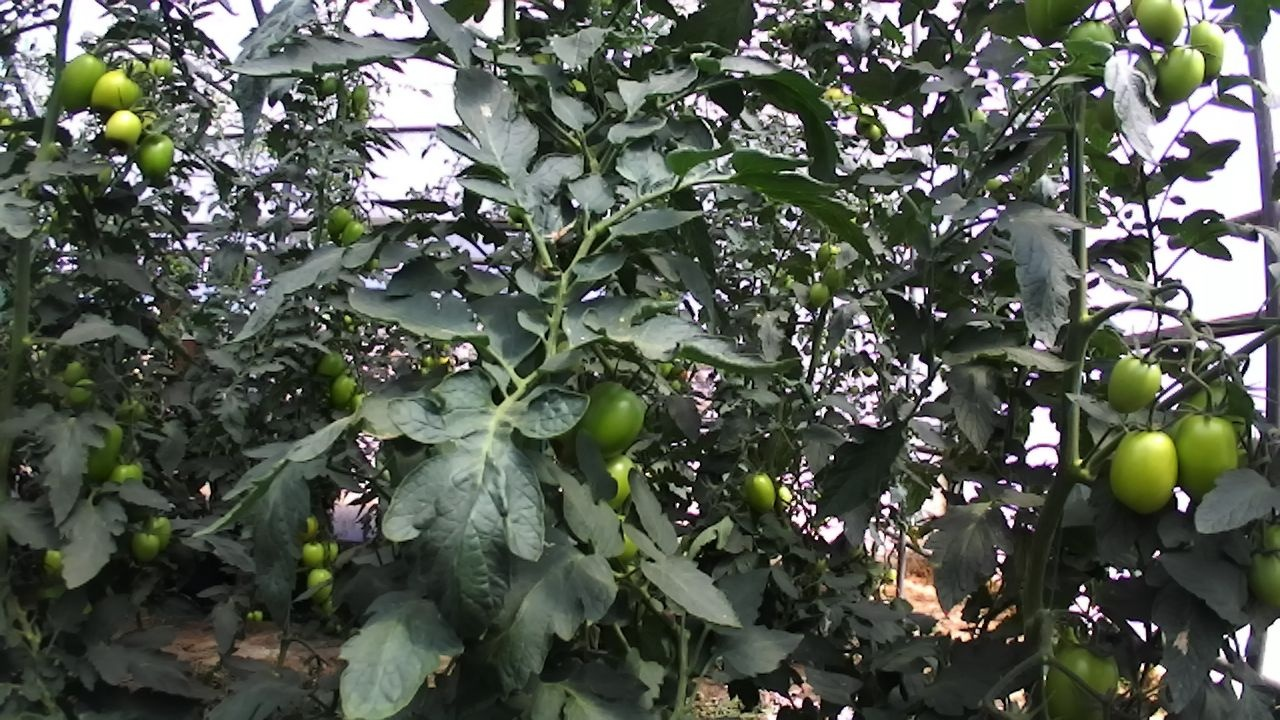tomato: (1164, 396, 1259, 521), (1100, 416, 1199, 525), (1029, 622, 1138, 720), (566, 366, 661, 473), (43, 41, 124, 122), (1098, 342, 1178, 422), (1148, 32, 1222, 115), (1060, 11, 1127, 89), (1179, 8, 1238, 92), (592, 445, 653, 518), (730, 458, 794, 525), (73, 415, 131, 487), (85, 63, 151, 126), (1124, 0, 1196, 56), (1238, 542, 1280, 625), (131, 124, 182, 187), (98, 103, 150, 155), (104, 453, 149, 503), (321, 366, 364, 414), (139, 510, 180, 557), (313, 342, 352, 387), (127, 527, 167, 567), (64, 374, 104, 412), (303, 564, 336, 608), (322, 201, 358, 241), (816, 255, 850, 297), (810, 236, 846, 275), (56, 353, 92, 391), (295, 535, 330, 572), (337, 217, 370, 253), (345, 77, 377, 113), (315, 533, 344, 569), (806, 276, 835, 311), (147, 52, 177, 81), (860, 116, 888, 147), (317, 73, 344, 102)
